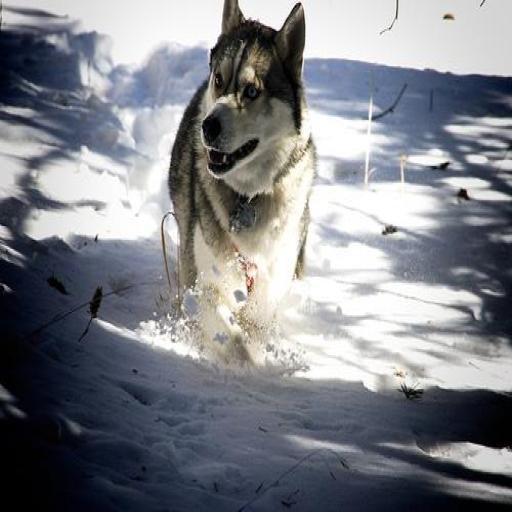dog_face: (199, 1, 304, 174)
